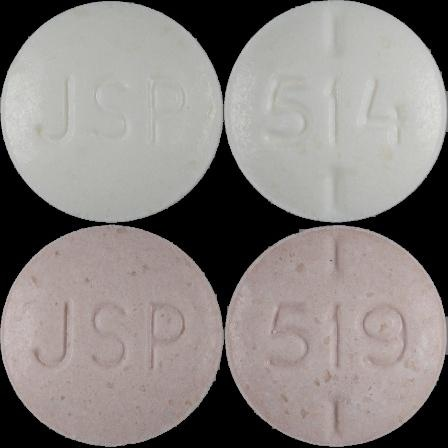63629-2712: (0, 0, 224, 224)
